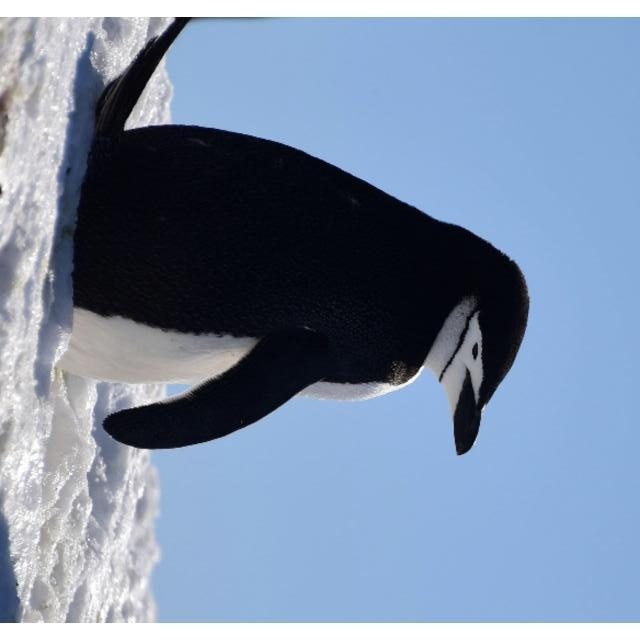penguin: (51, 19, 529, 457)
